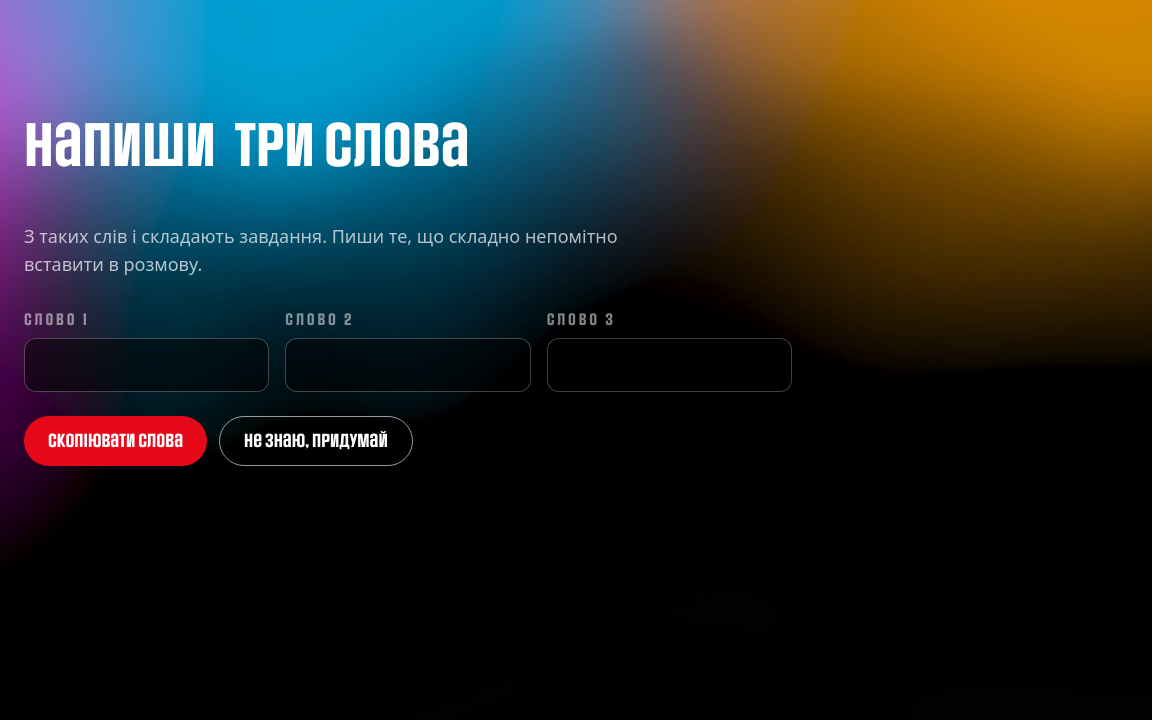
WordsForm › не пускає порожню форму і каже про це
This screenshot has width=1152, height=720.
Click the button "Скопіювати слова" at (116, 441), box [24,416,207,466]
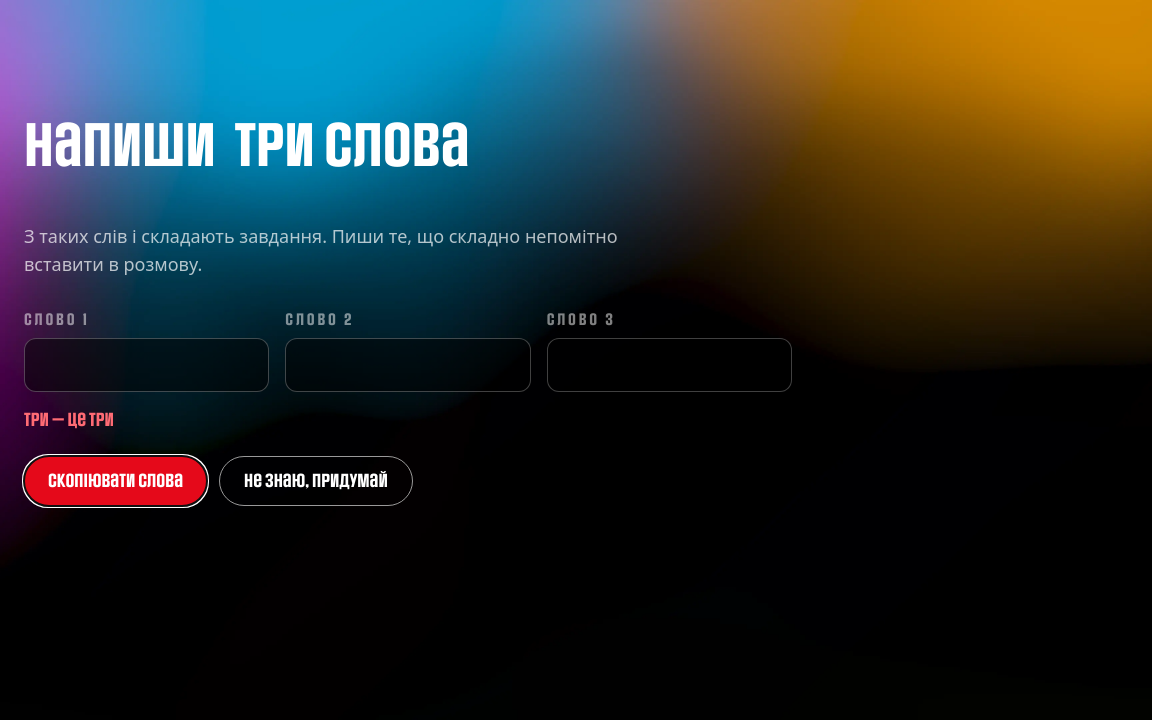
Expected: the text "три — це три" is shown, [24,412,114,428]
